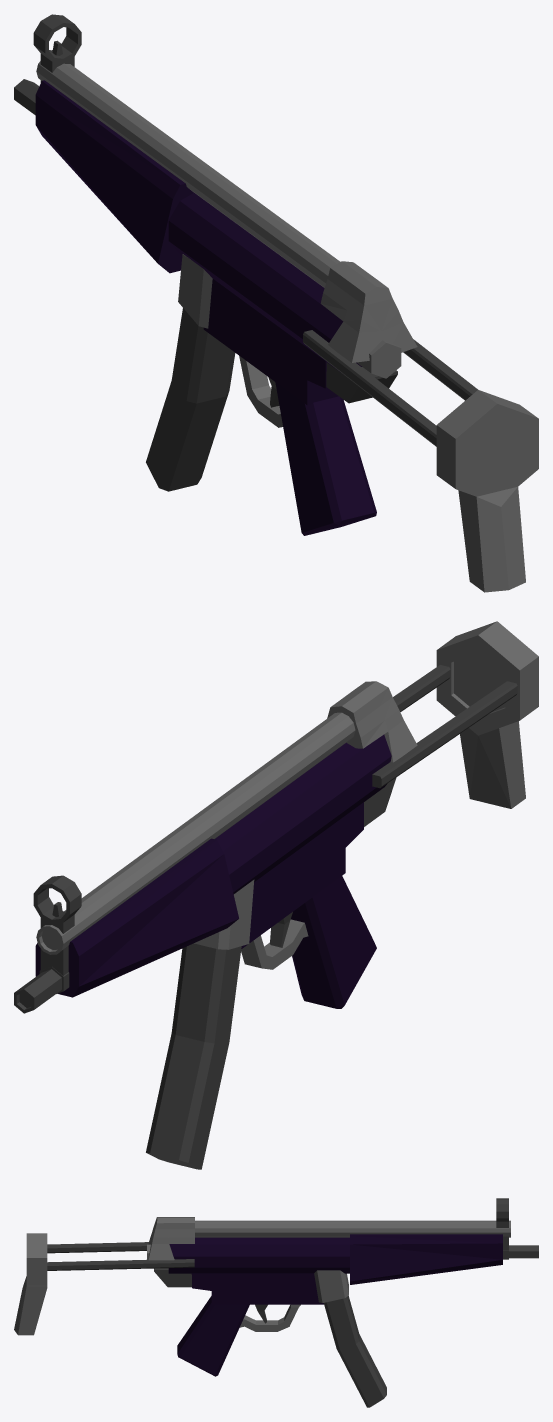
File: Submachine Gun-JC7yfgAElx.glb
3 renders of one model, top to bottom at view 1: azimuth 30°, elevation 25°; view 2: azimuth 150°, elevation 25°; view 3: azimuth 270°, elevation 25°, orthographic. The views are drawn at different scales.
Visible parts, largest first — view 1: SMG_02_Cylinder; view 2: SMG_02_Cylinder; view 3: SMG_02_Cylinder.
Part boxes in pixels (x1,y1,x2,y2): SMG_02_Cylinder: (14, 14, 538, 592); SMG_02_Cylinder: (14, 621, 538, 1169); SMG_02_Cylinder: (14, 1198, 538, 1407).
Bounding box in the file's own units: 0.5421 × 2.35 × 5.47.
